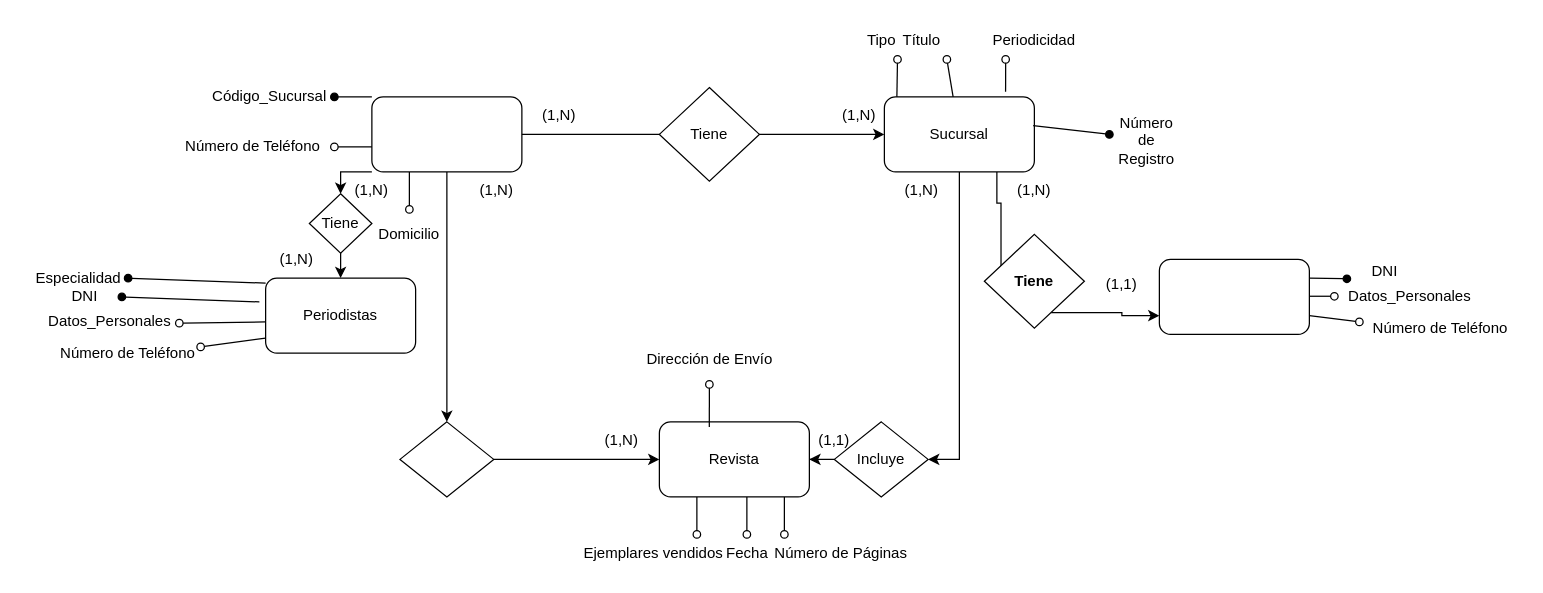
Image size: 1543x593. Some labels were removed from this diagram. Here are the shapes that lost their labels. From the top down, the centre of each, then its label:
point 446,134: Editorial
point 1233,296: Empleados
point 446,459: Reserva
